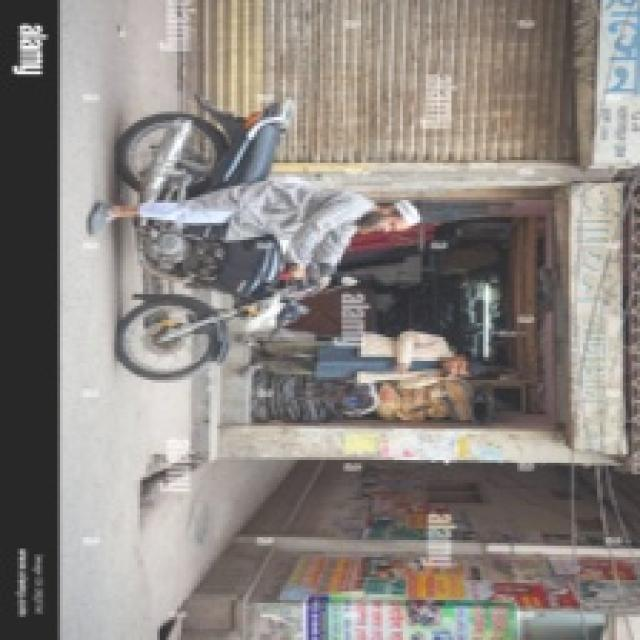bike: (112, 85, 328, 388)
